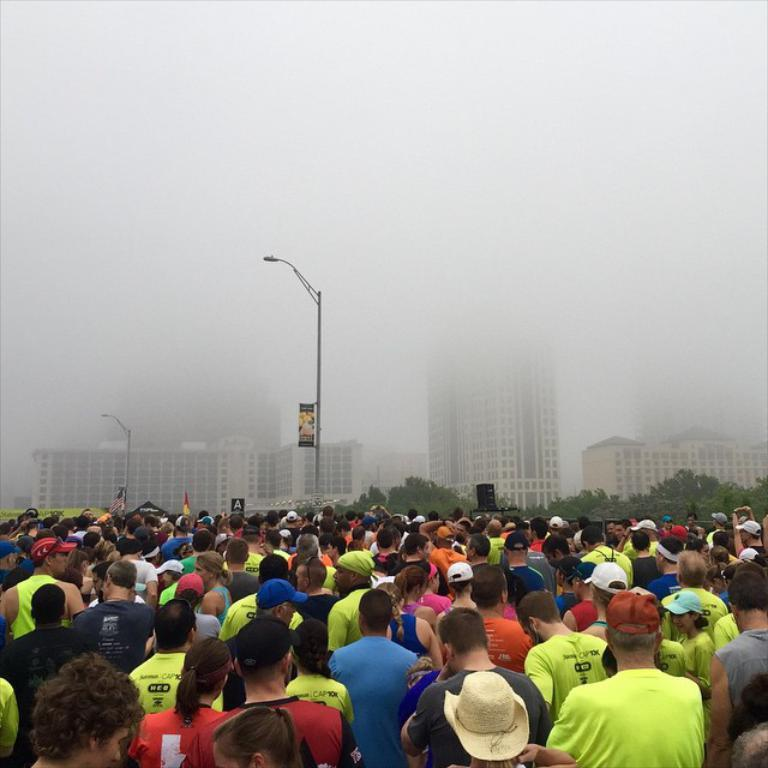Hat: (438, 671, 528, 763), (606, 586, 662, 632), (582, 557, 630, 589), (30, 536, 78, 564), (662, 590, 709, 618), (446, 562, 473, 582), (630, 518, 660, 532), (550, 514, 570, 530)
